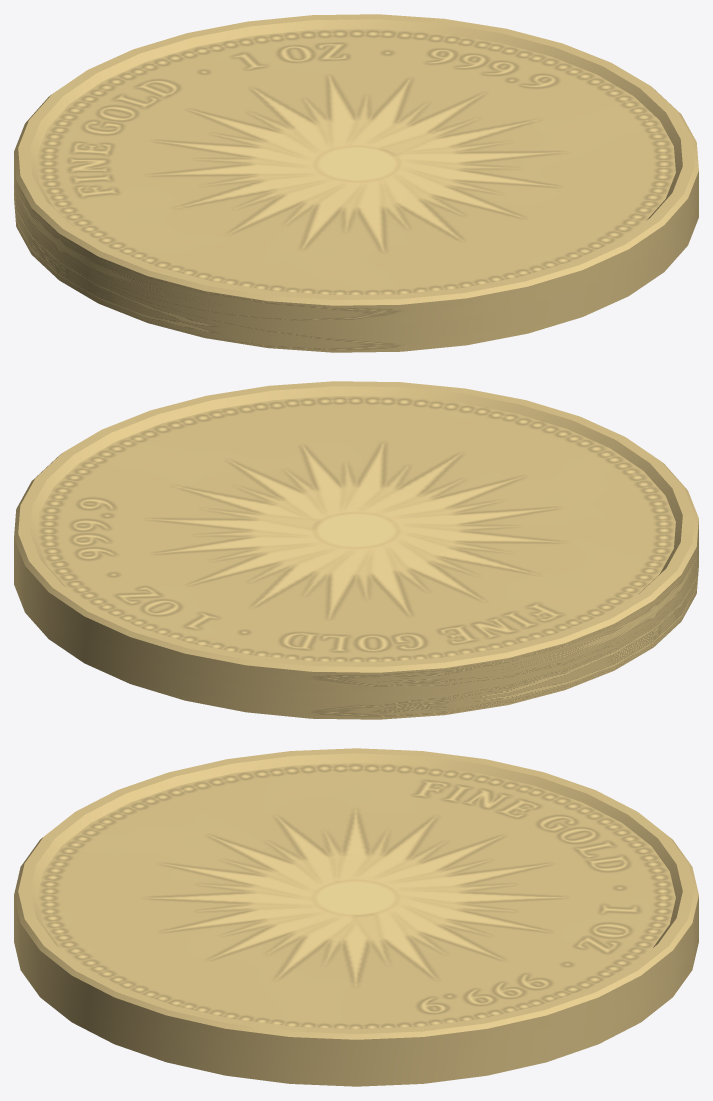
Rendered from GoldCoin_LOD1.obj.
3 renders of one model, top to bottom at view 1: azimuth 30°, elevation 25°; view 2: azimuth 150°, elevation 25°; view 3: azimuth 270°, elevation 25°, orthographic.
Parts seen in each view (by area): view 1: GoldCoin; view 2: GoldCoin; view 3: GoldCoin.
Part boxes in pixels (x1=…): GoldCoin: x1=14, y1=14, x2=698, y2=352; GoldCoin: x1=14, y1=381, x2=698, y2=719; GoldCoin: x1=14, y1=748, x2=698, y2=1086.
Bounding box in the file's own units: 0.0327 × 0.00287 × 0.0327.
1 material, 1 textured.
